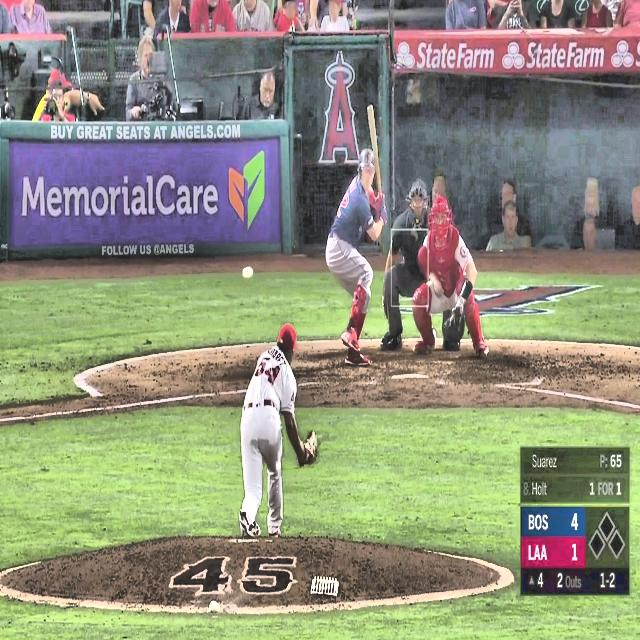baseball: (242, 266, 253, 280)
